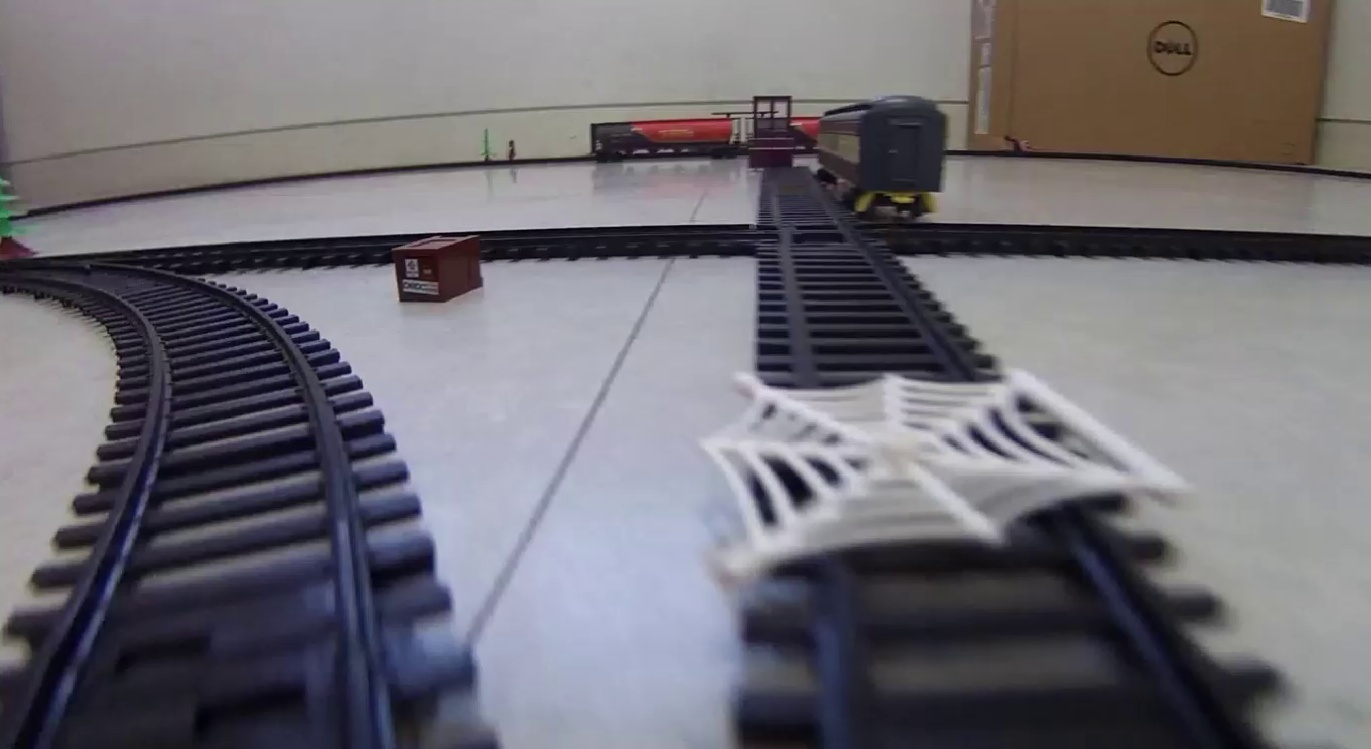box: (395, 234, 483, 306)
web: (712, 368, 1197, 580)
